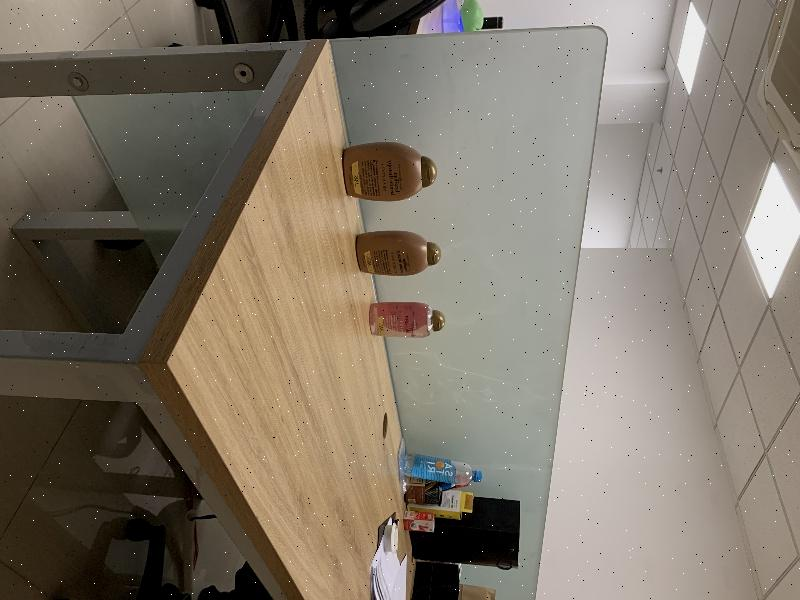BrazilianKeratinTherapy_Shampoo: (343, 142, 437, 202)
BrazilianKerationTherapy_Conditioner: (356, 230, 441, 276)
CherryBlossom_Shampoo: (369, 302, 445, 338)
